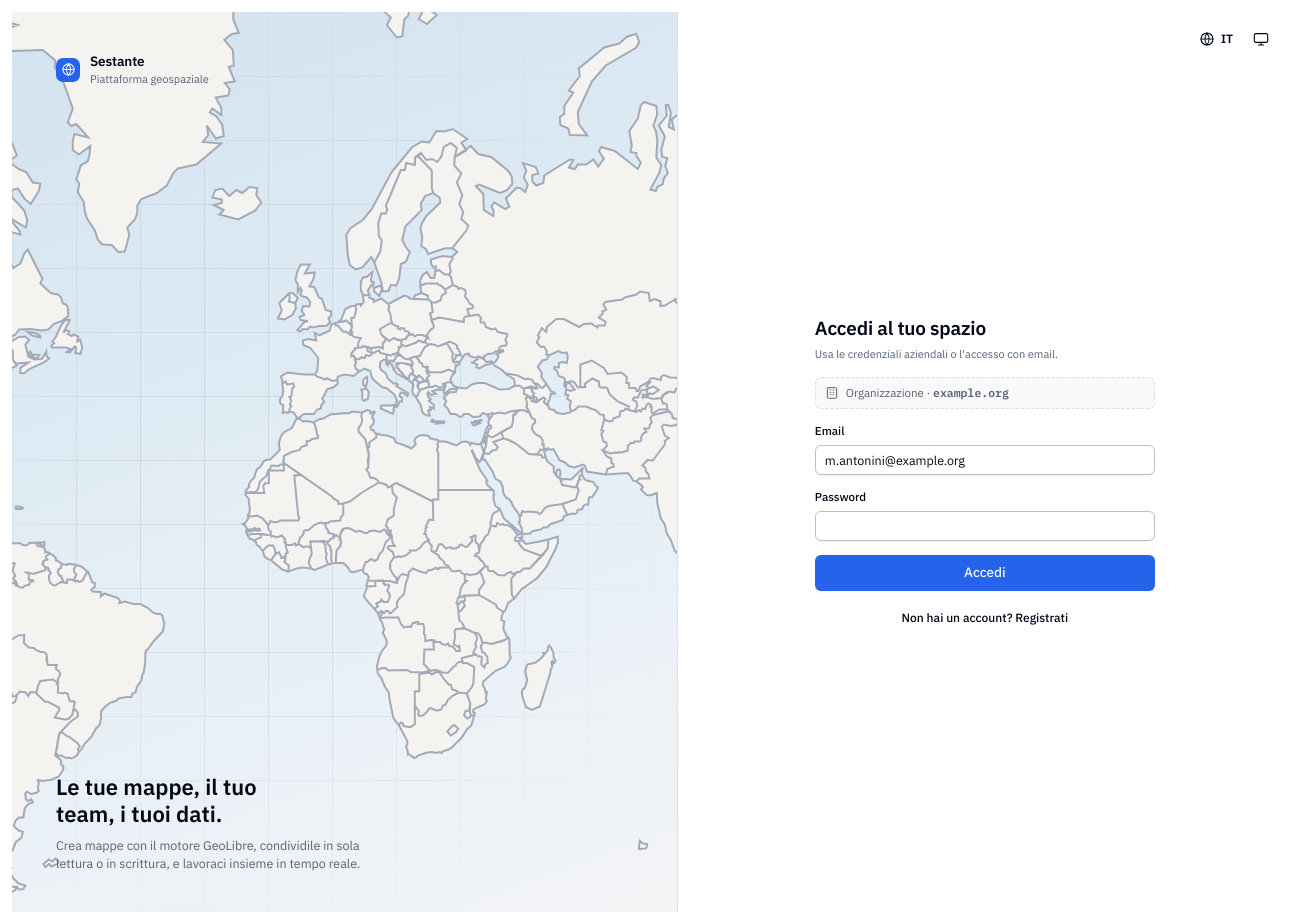
it: schermata d'accesso › con le credenziali sbagliate mostra il messaggio tradotto e resta qui
In the password field labelled "Password": (985, 526) [815, 511, 1155, 541], type "sbagliata"
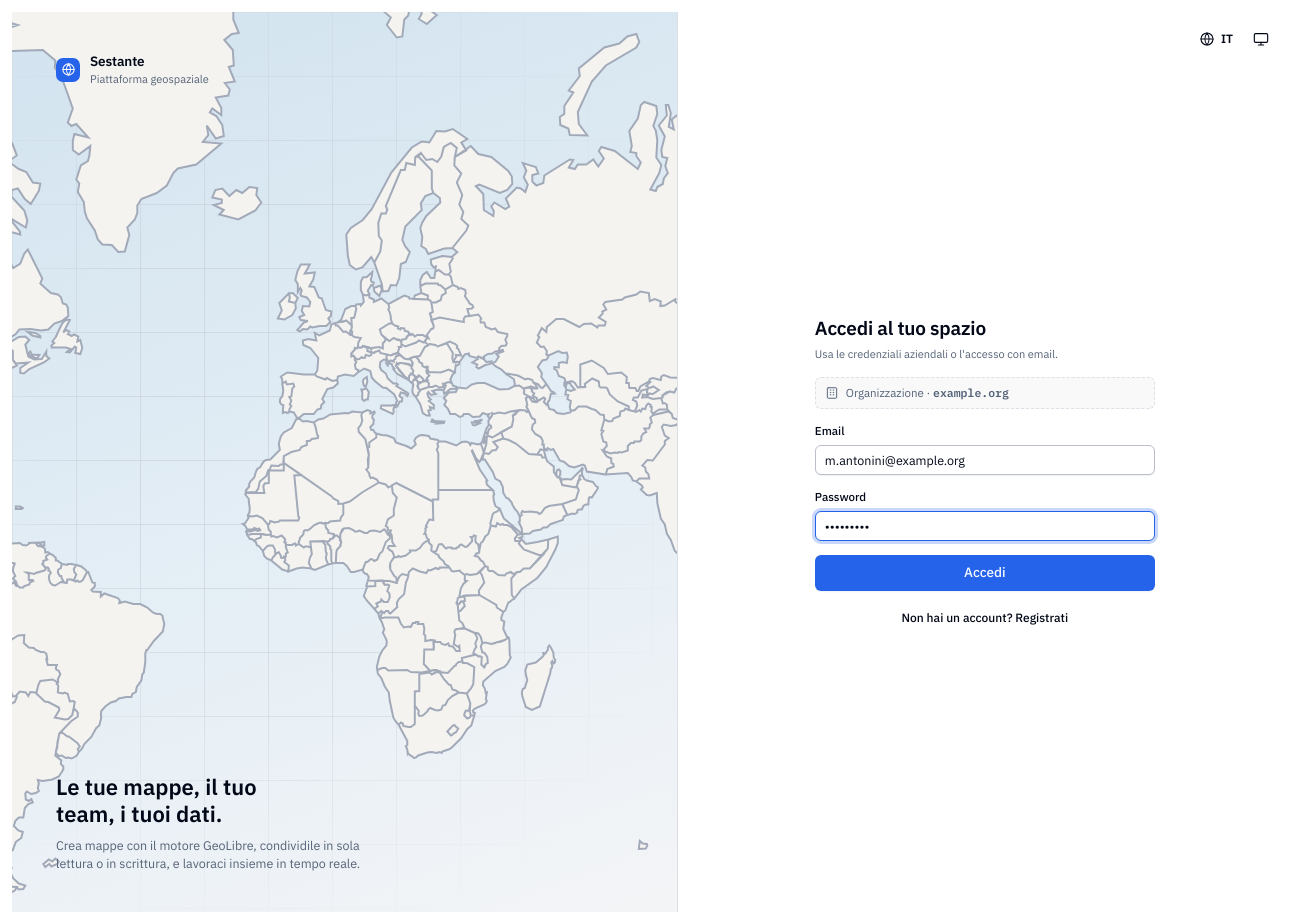
Click the button "Accedi": (985, 573) [815, 555, 1155, 591]
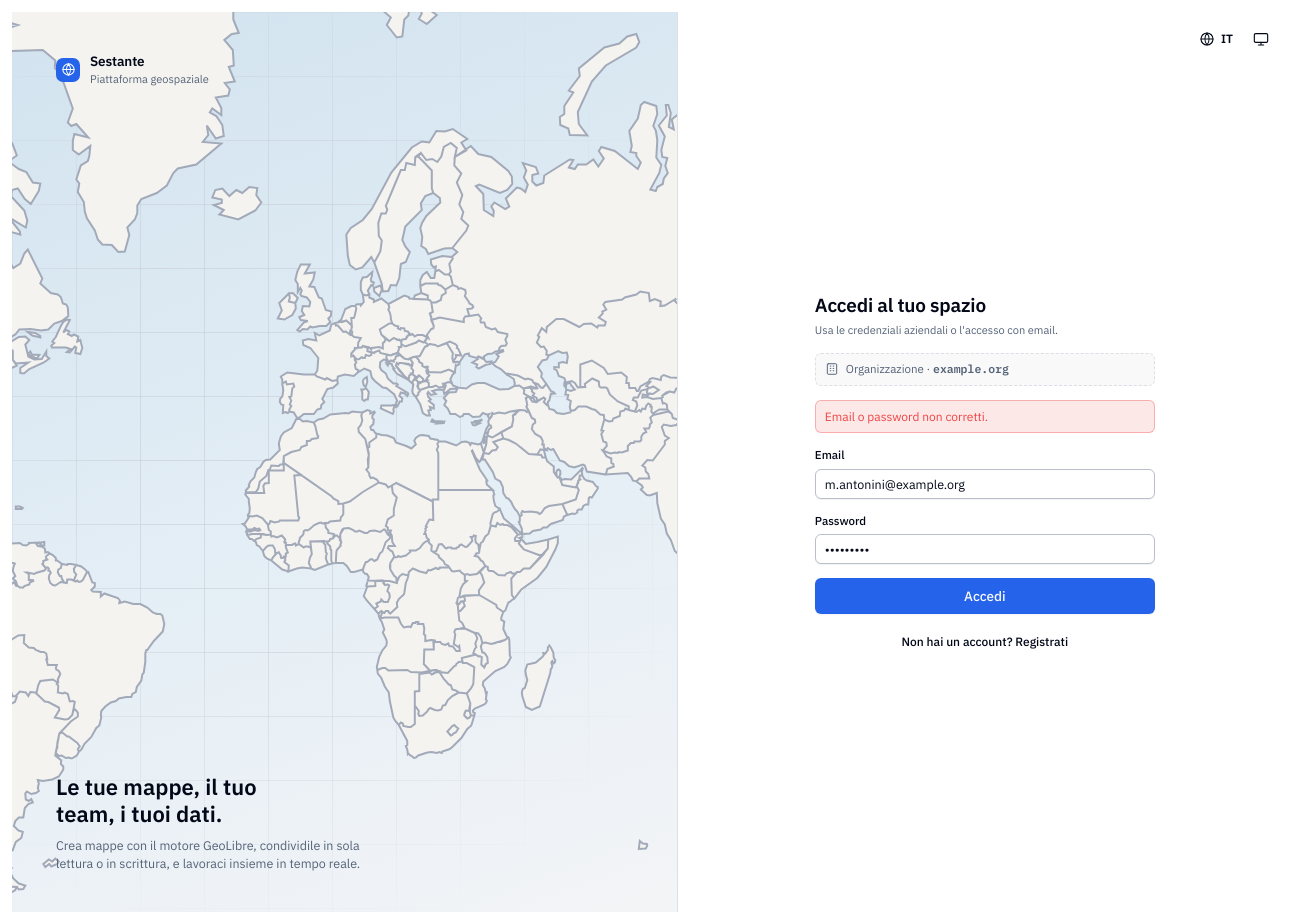
Now the text "Email o password non corretti." is shown, box [815, 400, 1155, 433]
